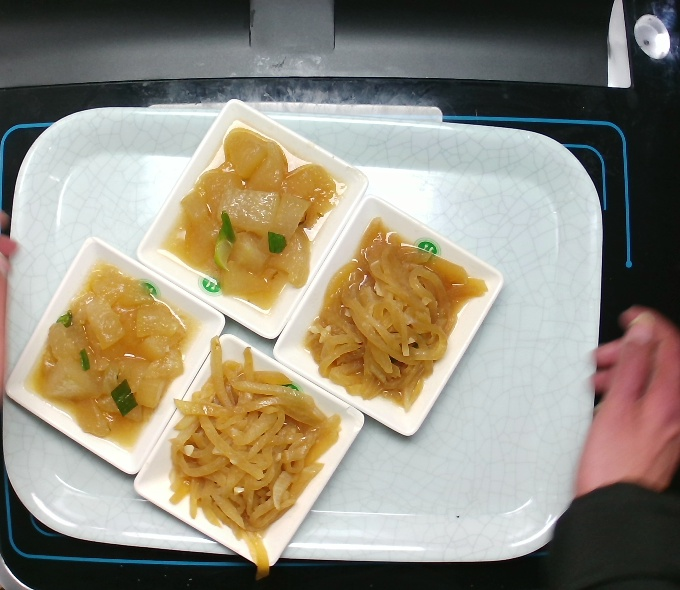wcq-DongGua: (24, 256, 201, 445), (167, 117, 344, 306)
wcq-LuoBoSi: (159, 337, 342, 577), (302, 211, 495, 410)
